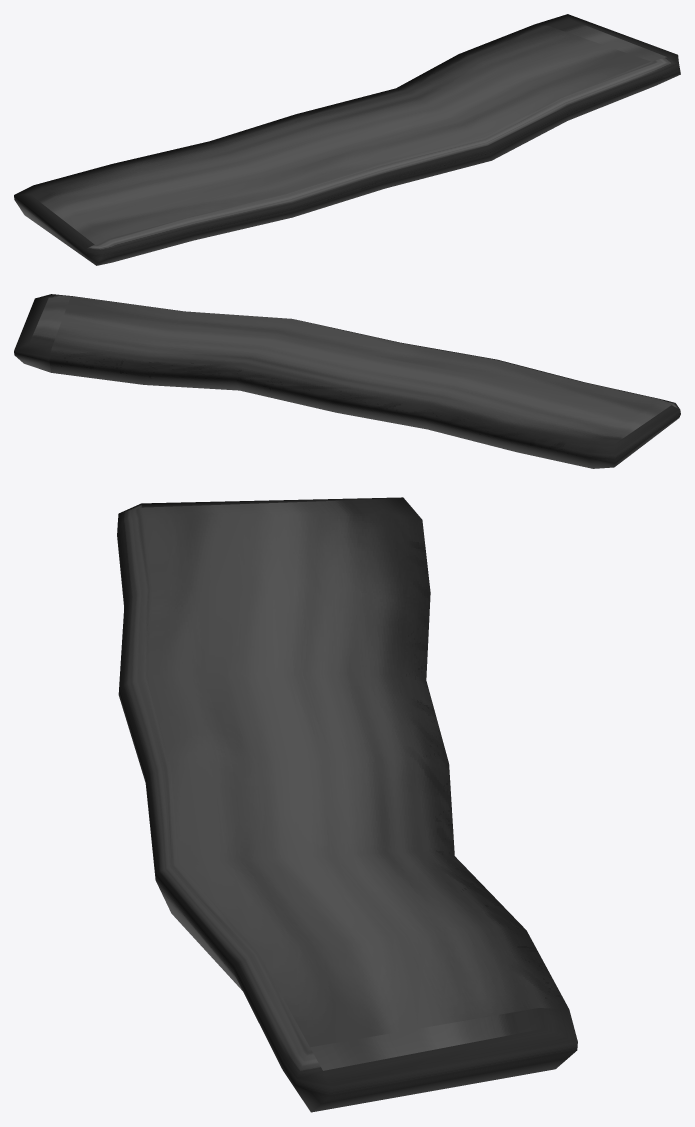
Rendered from shore002.glb.
3 renders of one model, top to bottom at view 1: azimuth 30°, elevation 25°; view 2: azimuth 150°, elevation 25°; view 3: azimuth 270°, elevation 25°, orthographic. The views are drawn at different scales.
Visible parts, largest first — view 1: Shore002; view 2: Shore002; view 3: Shore002.
Part boxes in pixels (x1,y1,x2,y2): Shore002: (14,14,680,265); Shore002: (14,294,680,468); Shore002: (117,497,577,1112).
Size of the model in its own units: 58.61 by 2.15 by 19.54.
Materials: 1 (1 with a texture image).
